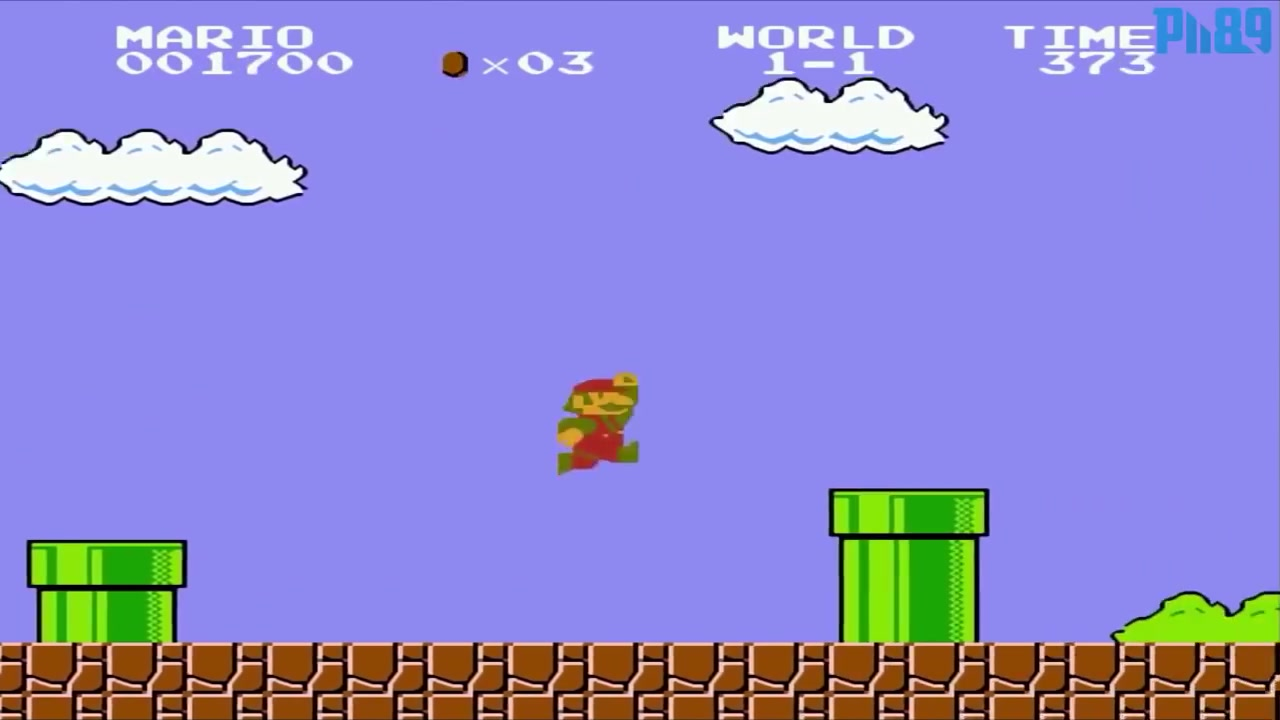mario: (549, 372, 650, 485)
